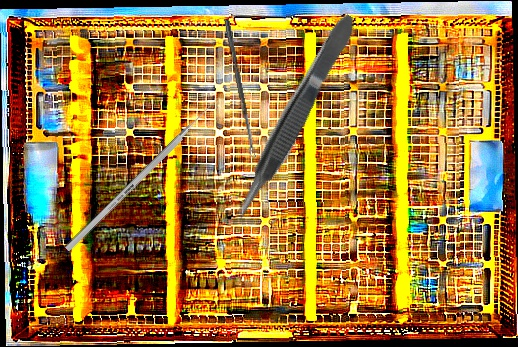Pusher: (63, 93, 224, 253)
Surgical Spoon: (223, 18, 256, 158)
Tissue Forceps: (224, 10, 366, 226)
